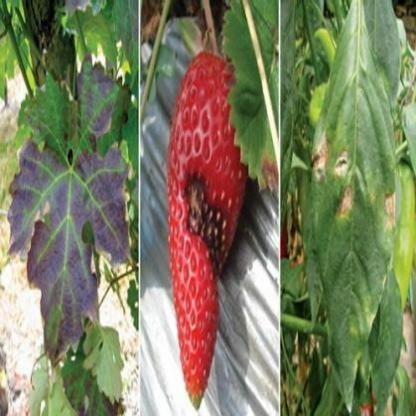Strawberry_Anthracnose_Fruit_Rot: (180, 165, 234, 279)
